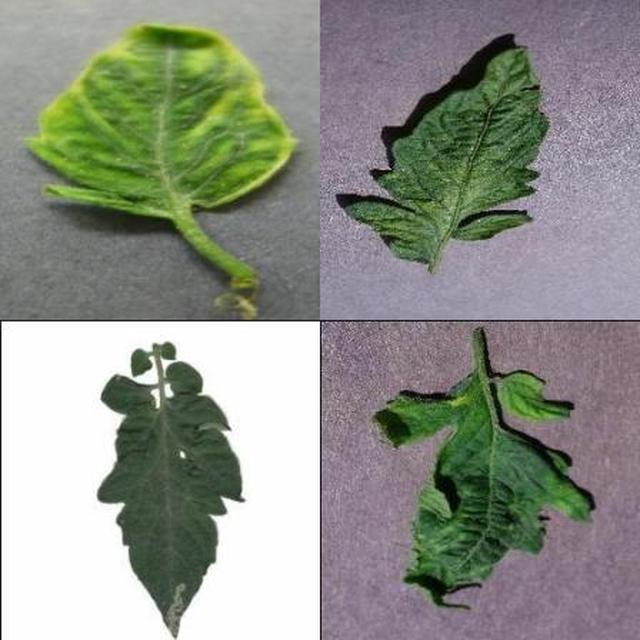Yellow Leaf Curl Virus: (218, 171, 640, 640)
